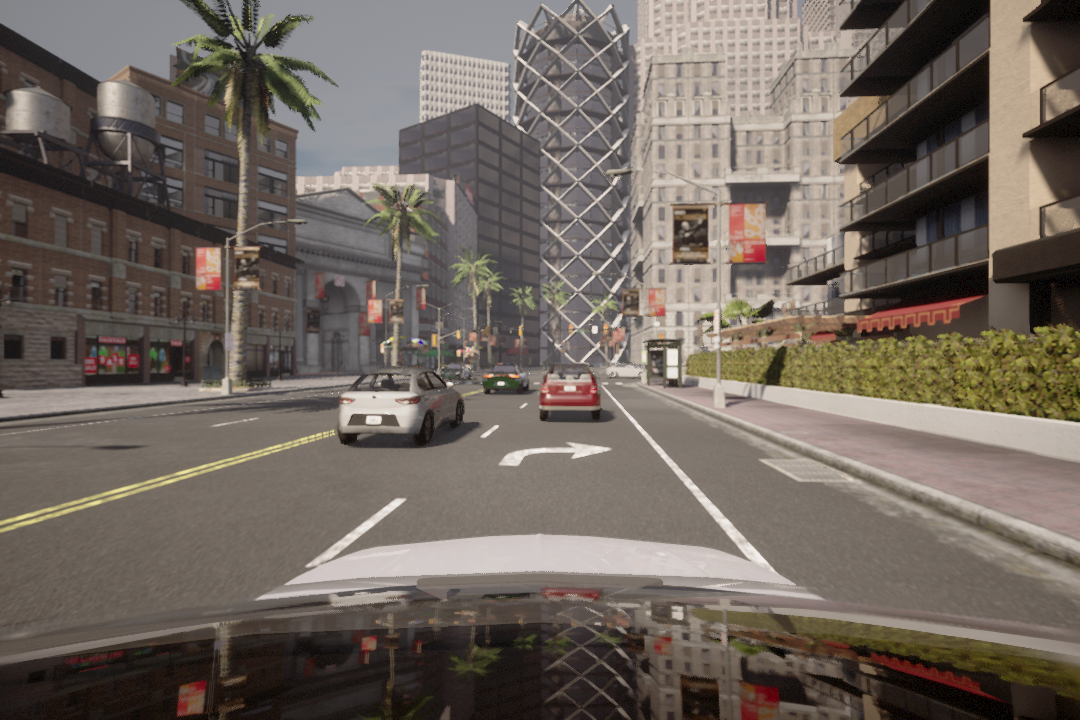RoadSign_right: (496, 435, 624, 477)
